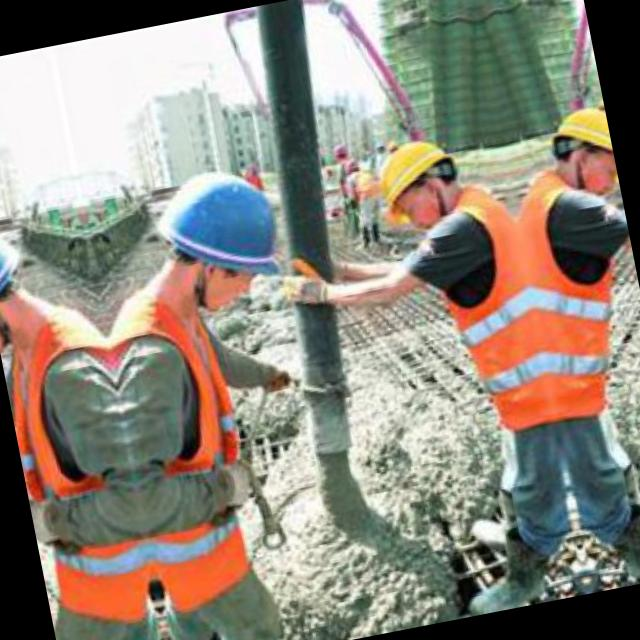helmet: (132, 142, 302, 322), (366, 123, 477, 236), (532, 94, 618, 204), (0, 190, 51, 353)
